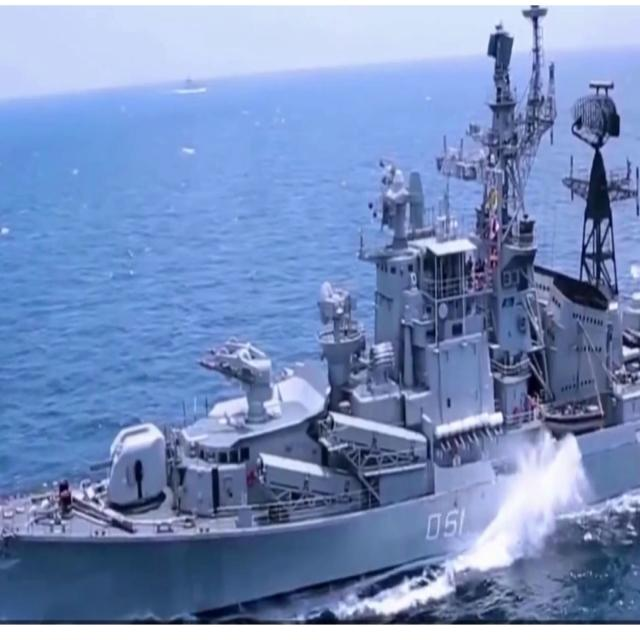OCR: (422, 497, 468, 548)
